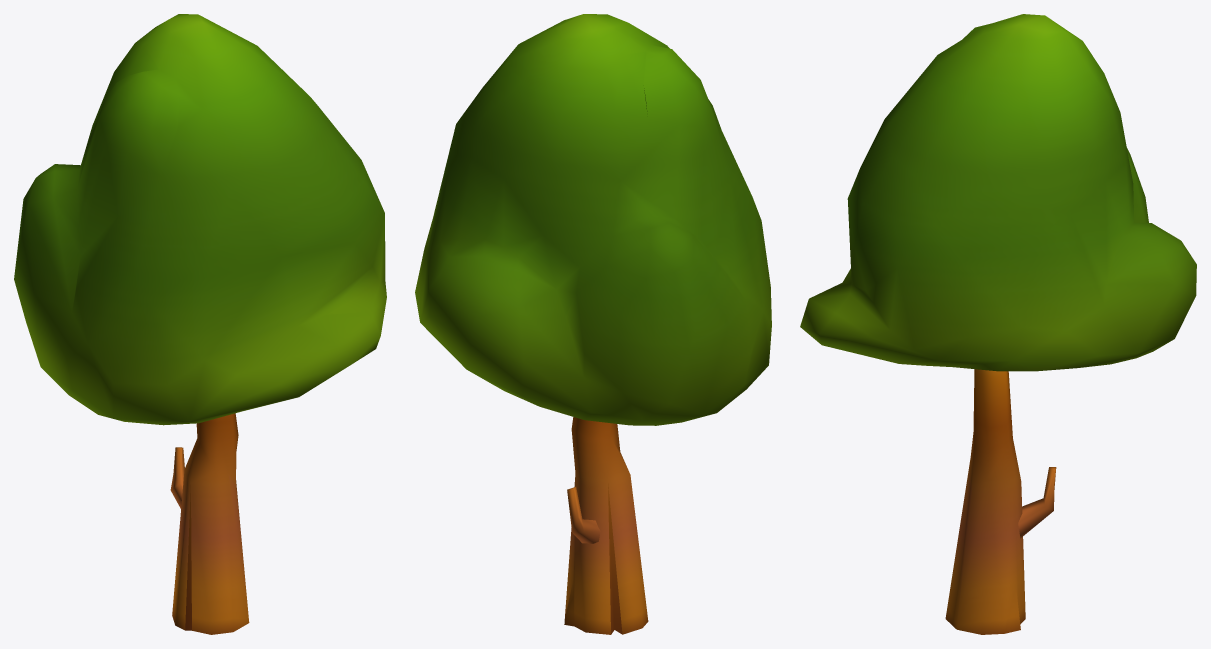
Rendered from meta_tree_4.fbx.
3 views of the same model, side by side, from view 1: azimuth 30°, elevation 25°; view 2: azimuth 150°, elevation 25°; view 3: azimuth 270°, elevation 25° (orthographic). The views are drawn at different scales.
Parts seen in each view (by area): view 1: meta_tree_4; view 2: meta_tree_4; view 3: meta_tree_4.
Boxes of the visible parts, <box> form: meta_tree_4: <box>14,14,386,634</box>; meta_tree_4: <box>415,14,771,634</box>; meta_tree_4: <box>800,14,1196,634</box>.
Size of the model in its own units: 121 by 225 by 135.
